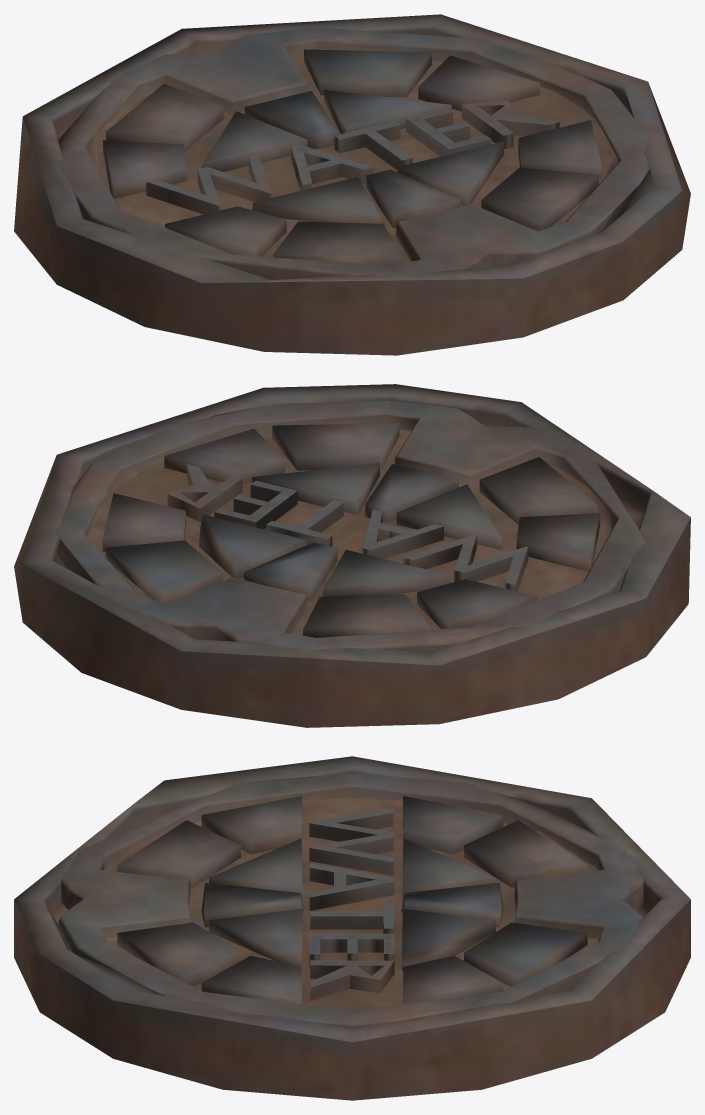
The model's file is manhole.glb.
The picture shows the model from 3 angles, top to bottom: view 1: azimuth 30°, elevation 25°; view 2: azimuth 150°, elevation 25°; view 3: azimuth 270°, elevation 25°; orthographic projection.
Parts seen in each view (by area): view 1: manhole; view 2: manhole; view 3: manhole.
Part boxes in pixels (x1,y1,x2,y2): manhole: [14, 14, 690, 355]; manhole: [14, 384, 690, 727]; manhole: [14, 756, 690, 1100].
Bounding box in the file's own units: 0.6908 × 0.0676 × 0.6908.
1 material, 1 textured.
